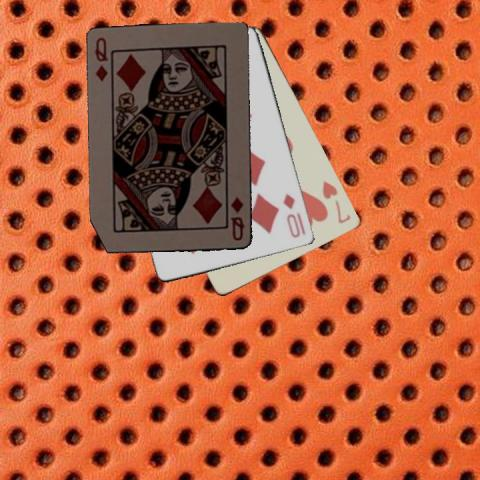10d: (281, 191, 302, 239)
7h: (319, 178, 353, 225)
Qd: (92, 35, 111, 84), (228, 194, 246, 242)
